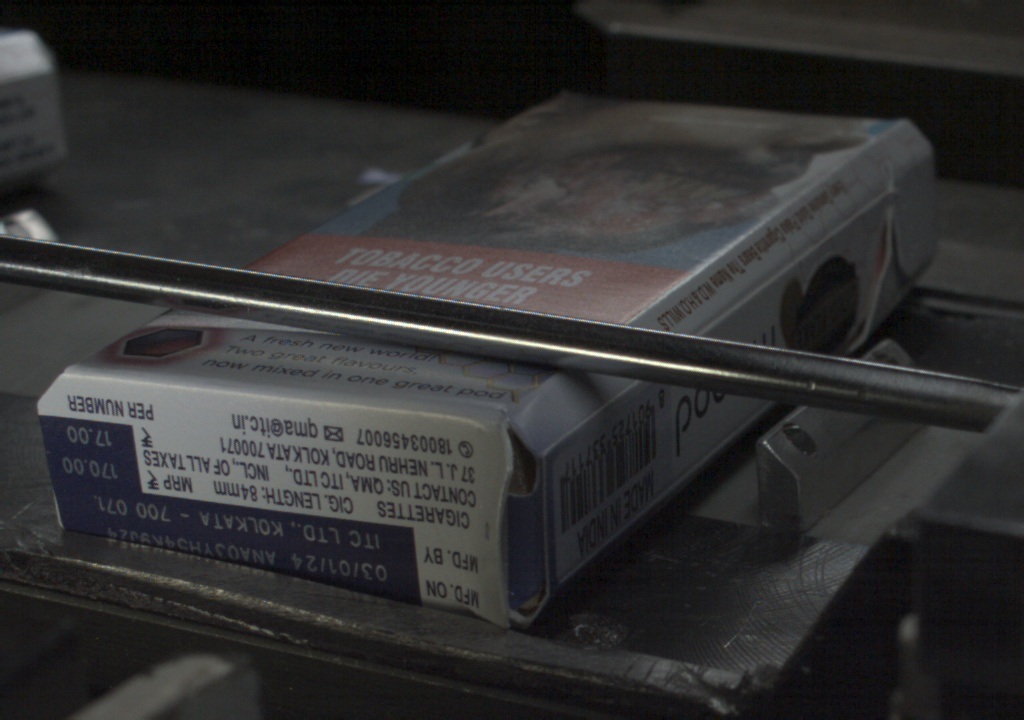g_label: (54, 490, 414, 606)
g_lmiter: (697, 250, 800, 331), (800, 189, 885, 249), (549, 408, 602, 451), (592, 376, 645, 414)
ng_bottom: (488, 421, 542, 623)
price: (43, 417, 136, 489)
